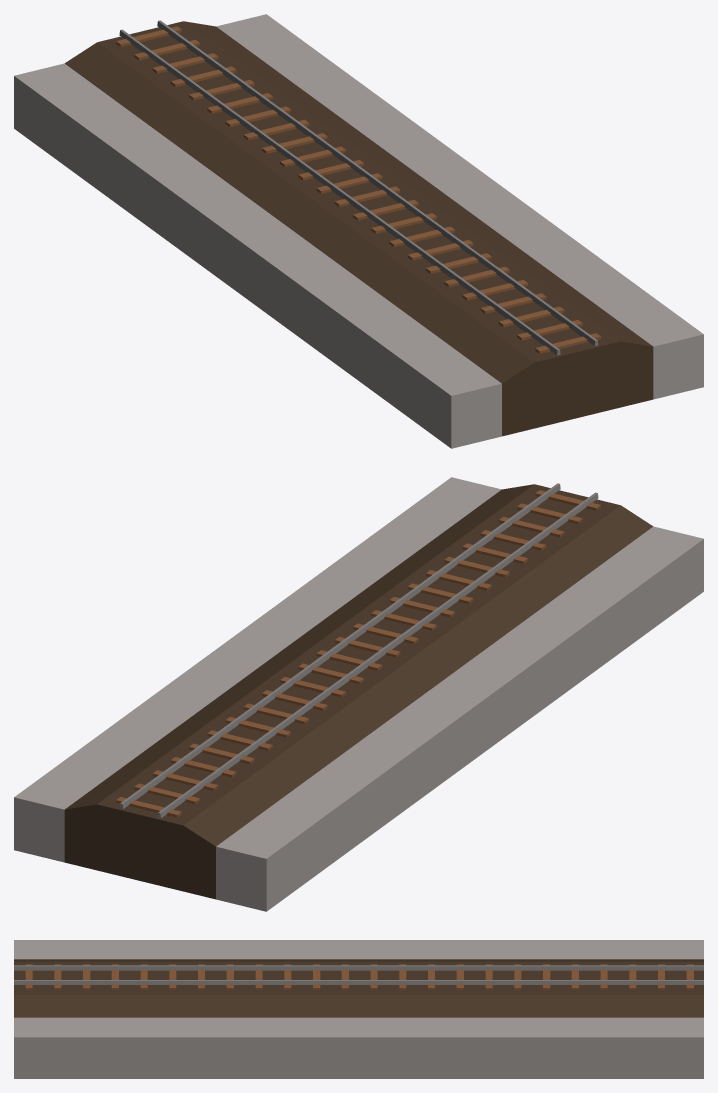
File: solo-rail-straight.fbx
3 renders of one model, top to bottom at view 1: azimuth 30°, elevation 25°; view 2: azimuth 150°, elevation 25°; view 3: azimuth 270°, elevation 25°, orthographic. The views are drawn at different scales.
Parts seen in each view (by area): view 1: solo-rail-straight; view 2: solo-rail-straight; view 3: solo-rail-straight.
Part boxes in pixels (x1=…): solo-rail-straight: x1=14, y1=14, x2=703, y2=448; solo-rail-straight: x1=14, y1=477, x2=703, y2=911; solo-rail-straight: x1=14, y1=940, x2=703, y2=1078.
Size of the model in its own units: 1000 by 275 by 3000.
